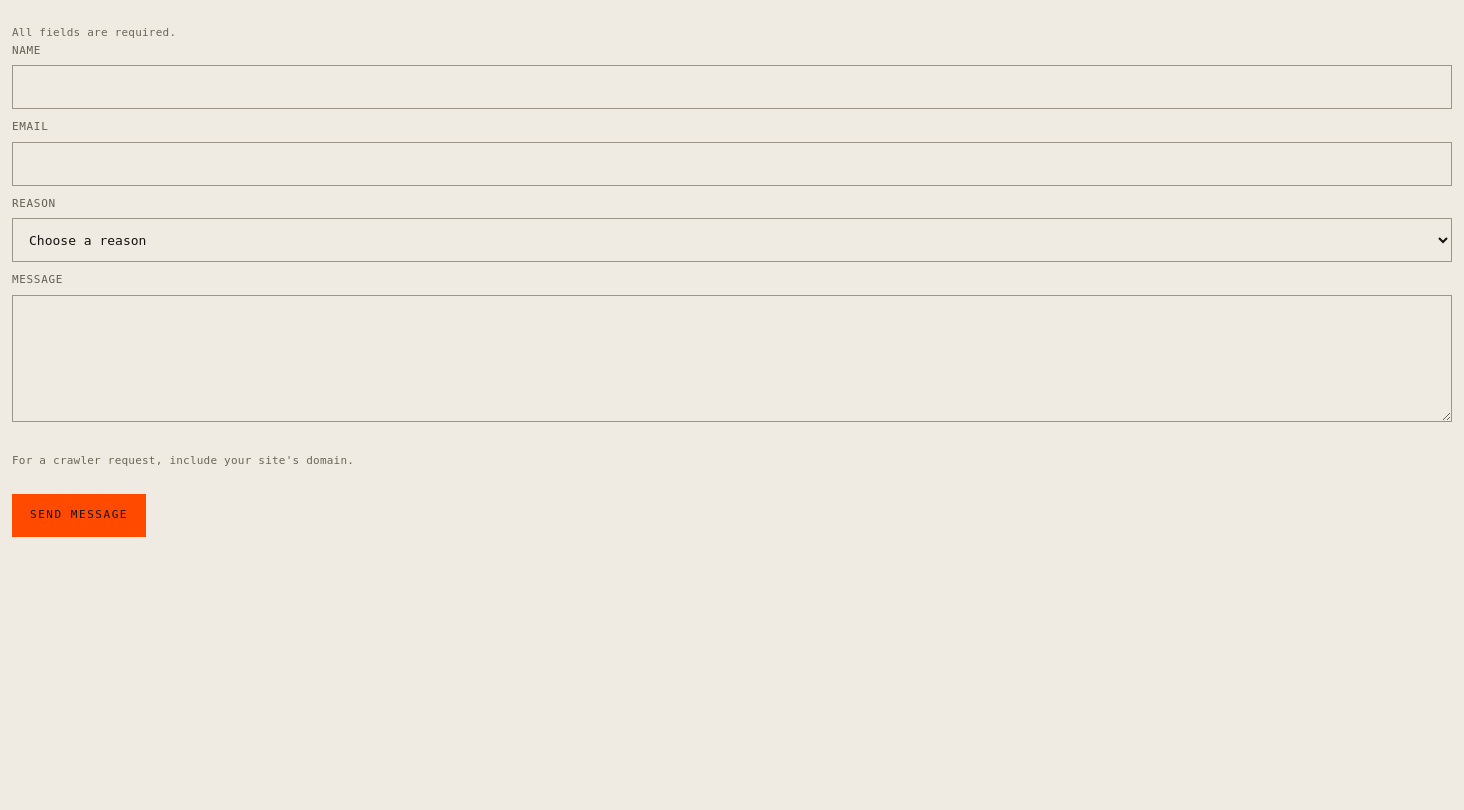
Test: /contact › validates before sending and never posts an invalid form
The width and height of the screenshot is (1464, 810).
Type "not-an-email" into the field labelled "Email" at (732, 164), box [12,142,1452,186]
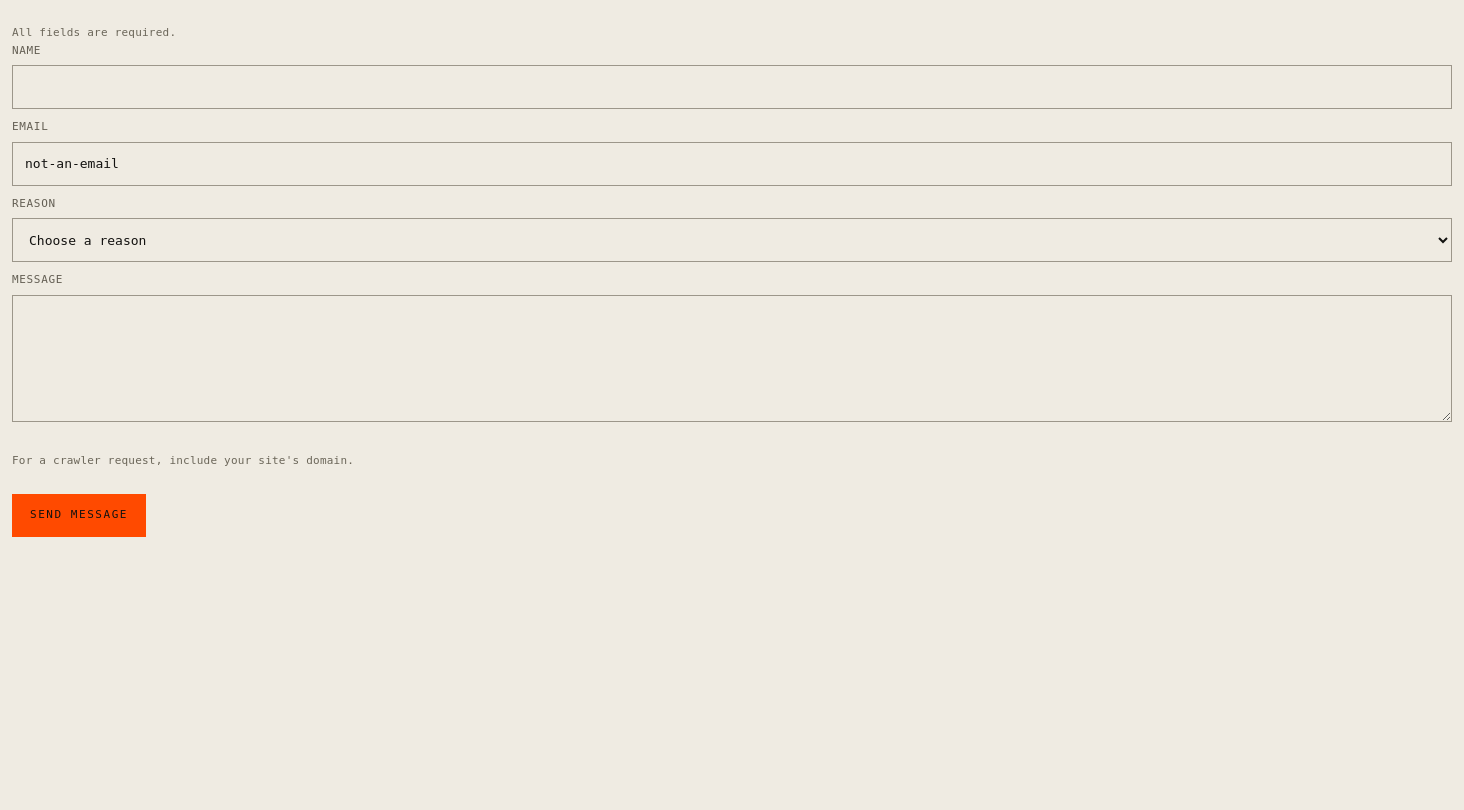
Click the button "Send message" at (79, 516), box [12,494,146,537]
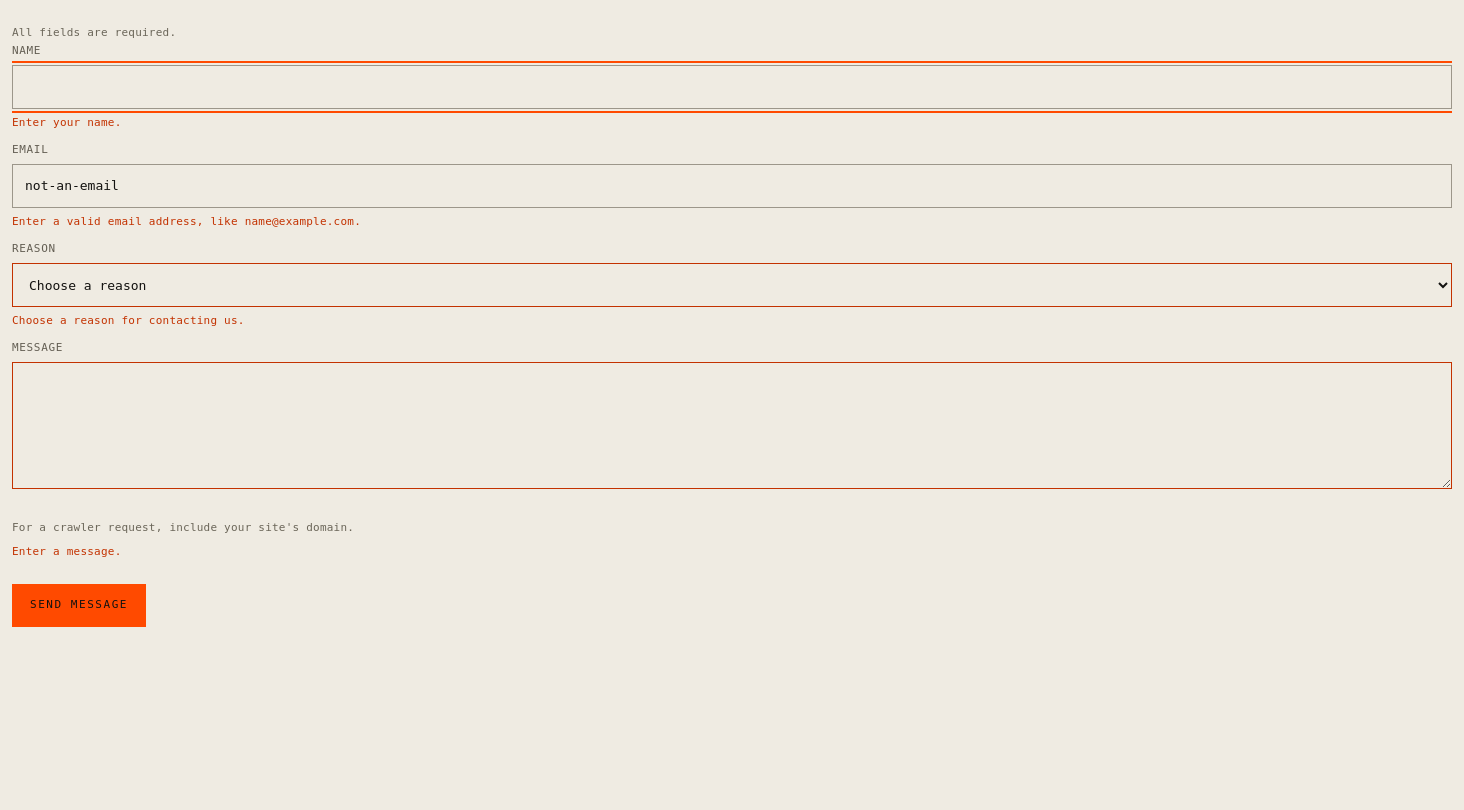
Expected: the text "Enter your name." is shown, [12,116,122,129]
Expected: the text "Enter a valid email address, like name@example.com." is shown, [12,215,361,228]
Expected: the text "Choose a reason for contacting us." is shown, [12,314,245,327]
